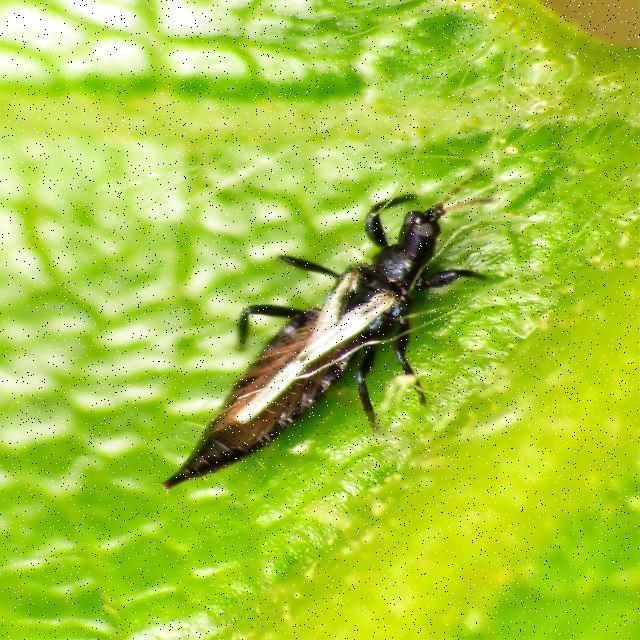Thrips: (125, 174, 510, 515)
